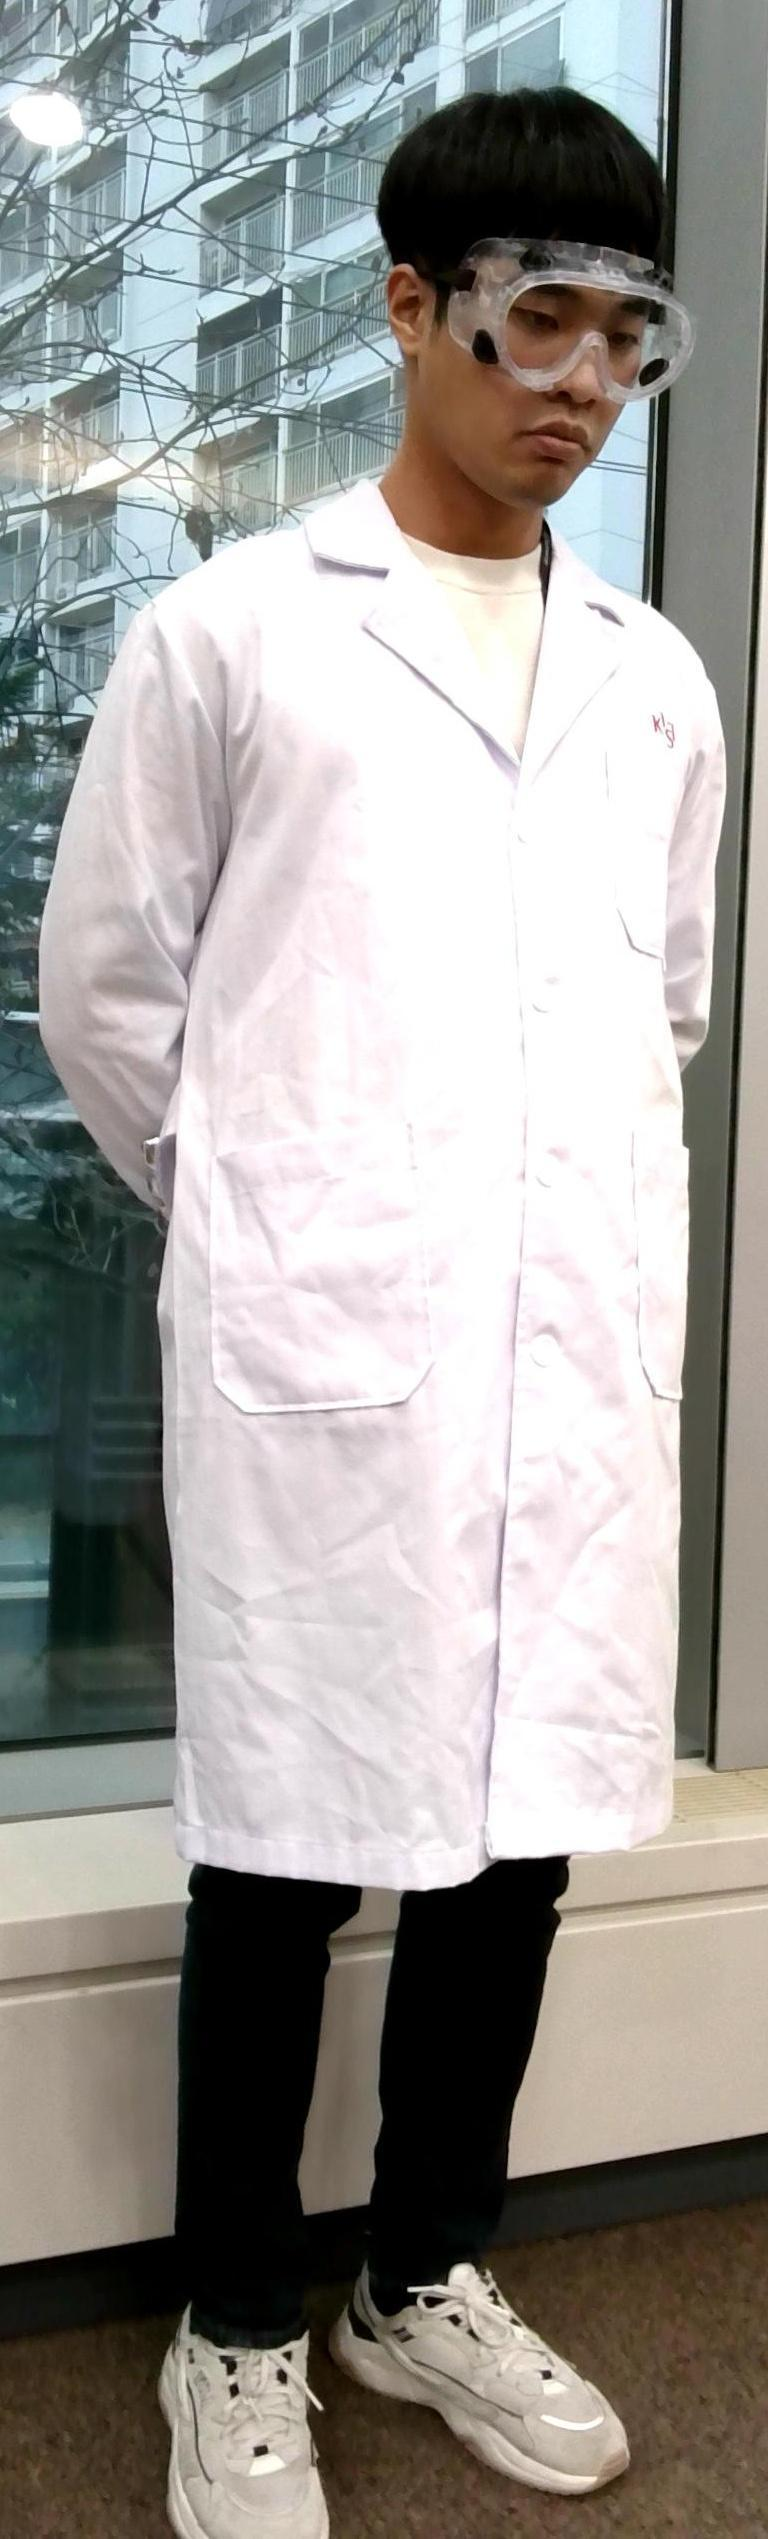lab_coat: (112, 601, 698, 1846)
